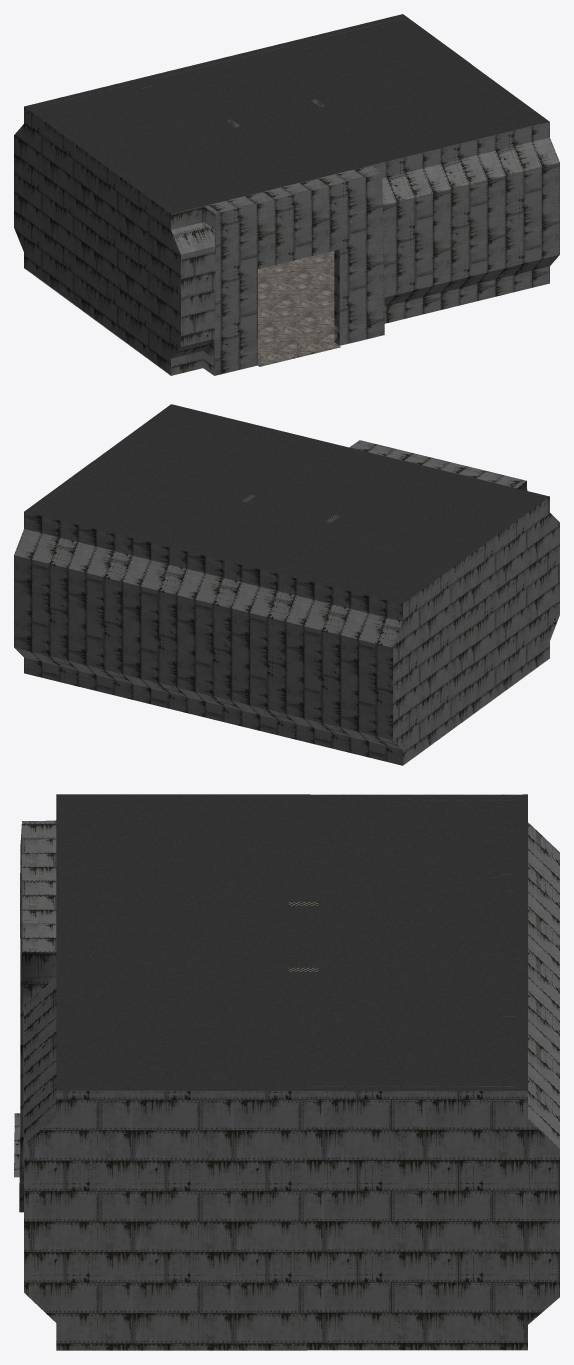
File: almacen_4.obj
The picture shows the model from 3 angles, top to bottom: view 1: azimuth 30°, elevation 25°; view 2: azimuth 150°, elevation 25°; view 3: azimuth 270°, elevation 25°; orthographic projection. The views are drawn at different scales.
Visible parts, largest first — view 1: almacen_4:polySurface2193; view 2: almacen_4:polySurface2193; view 3: almacen_4:polySurface2193.
Part boxes in pixels (<box>): almacen_4:polySurface2193: <box>14,14,559,375</box>; almacen_4:polySurface2193: <box>14,404,559,765</box>; almacen_4:polySurface2193: <box>14,794,559,1350</box>.
Size of the model in its own units: 49.6 by 20.27 by 38.57.
Materials: 4 (4 with a texture image).
